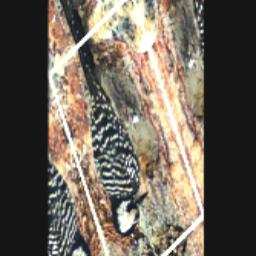Woodpecker: (58, 11, 174, 254)
